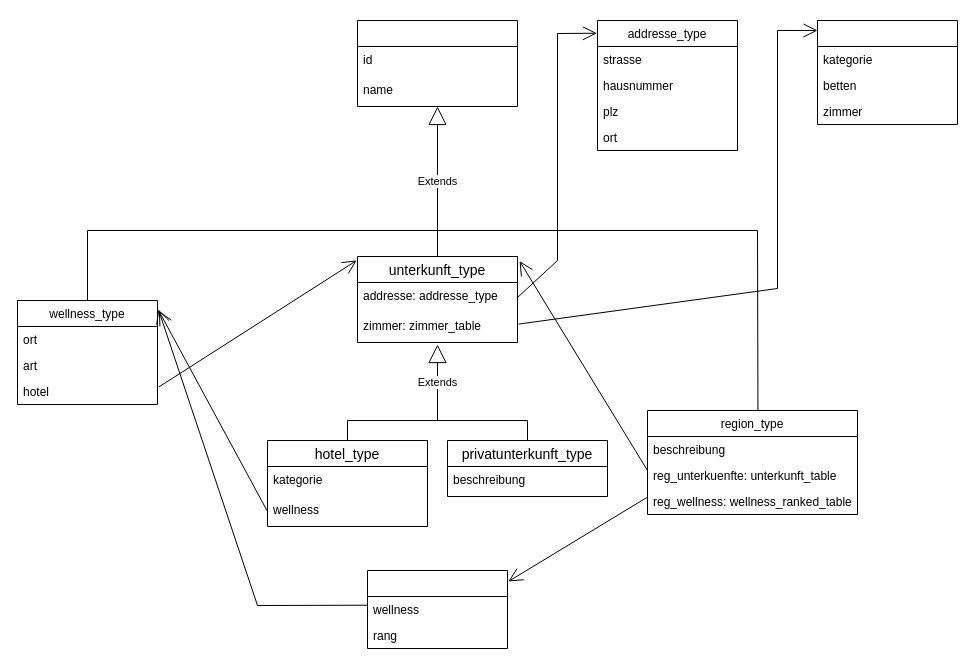
This 975x669 diagram has some shape labels left out. Each missing label, with the box of its shape:
entity_type: (356, 20, 518, 106)
wellness_ranked_type: (366, 570, 508, 648)
zimmer_type: (816, 20, 958, 124)
